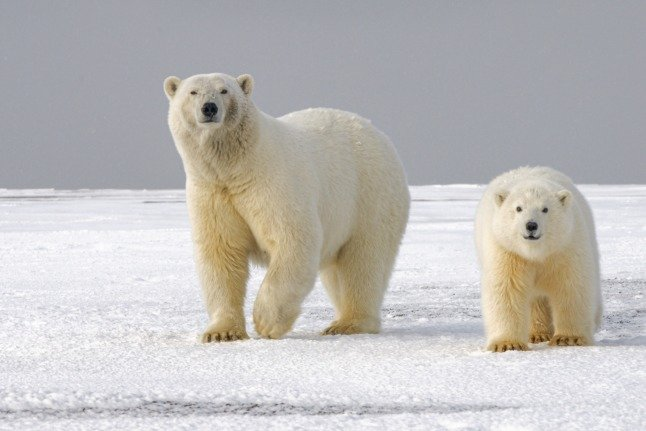PolarBear: (152, 61, 411, 341)
